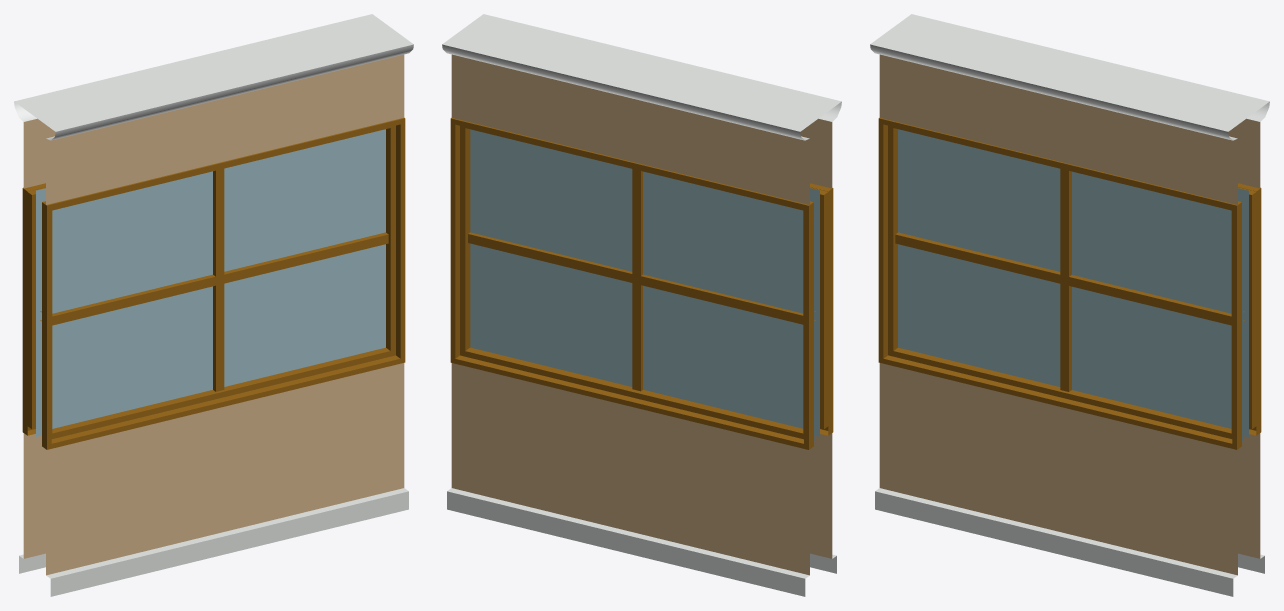
The model's file is Wall_Windows.fbx.
3 views of the same model, side by side, from view 1: azimuth 30°, elevation 25°; view 2: azimuth 150°, elevation 25°; view 3: azimuth 330°, elevation 25° (orthographic).
Parts seen in each view (by area): view 1: Wall_Window; view 2: Wall_Window; view 3: Wall_Window.
Boxes of the visible parts, <box> form: Wall_Window: <box>14,14,413,596</box>; Wall_Window: <box>442,14,841,596</box>; Wall_Window: <box>870,14,1269,596</box>.
Bounding box in the file's own units: 200 × 250 × 40.2.
1 material, 1 textured.
